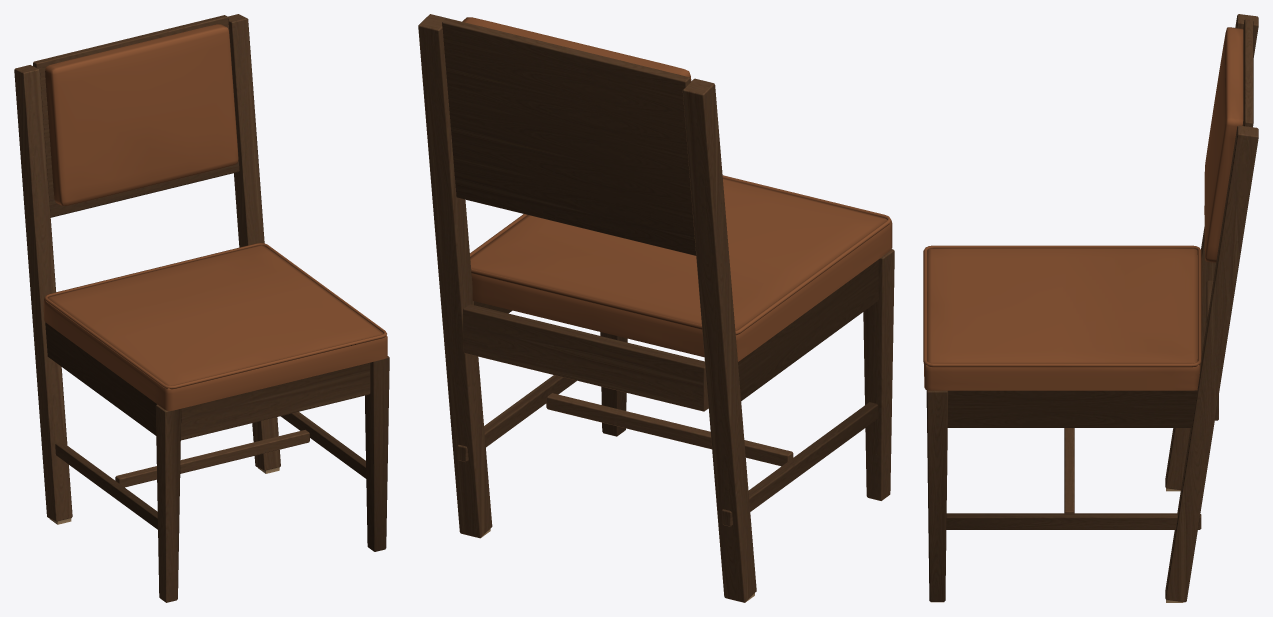
File: library_chair.gltf
3 renders of one model, left to right at view 1: azimuth 30°, elevation 25°; view 2: azimuth 150°, elevation 25°; view 3: azimuth 270°, elevation 25°, orthographic. The views are drawn at different scales.
Visible parts, largest first — view 1: LibraryChair_Leather, LibraryChair_Frame; view 2: LibraryChair_Frame, LibraryChair_Leather; view 3: LibraryChair_Leather, LibraryChair_Frame.
Part boxes in pixels (x1,y1,x2,y2): LibraryChair_Leather: (43, 24, 387, 410); LibraryChair_Frame: (14, 14, 389, 602); LibraryChair_Frame: (418, 14, 894, 602); LibraryChair_Leather: (462, 17, 892, 361); LibraryChair_Leather: (923, 27, 1243, 390); LibraryChair_Frame: (926, 14, 1258, 602).
Size of the model in its own units: 0.5 by 0.9142 by 0.5874.
3 materials, 1 textured.
